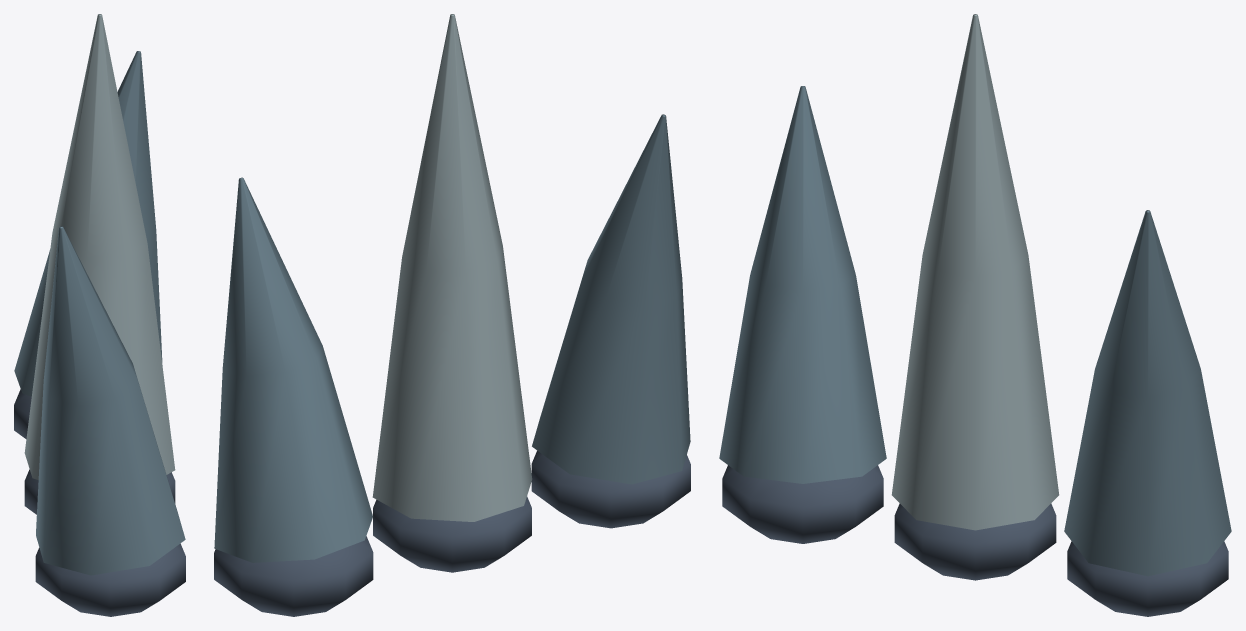
Rendered from pierce.glb.
3 views of the same model, side by side, from view 1: azimuth 30°, elevation 25°; view 2: azimuth 150°, elevation 25°; view 3: azimuth 270°, elevation 25° (orthographic). The views are drawn at different scales.
Parts seen in each view (by area): view 1: pierce; view 2: pierce; view 3: pierce.
Boxes of the visible parts, x1,y1,x2,y2 form: pierce: (14,14,185,616); pierce: (214,14,690,616); pierce: (719,14,1231,616).
Size of the model in its own units: 0.2749 by 0.495 by 0.416.
